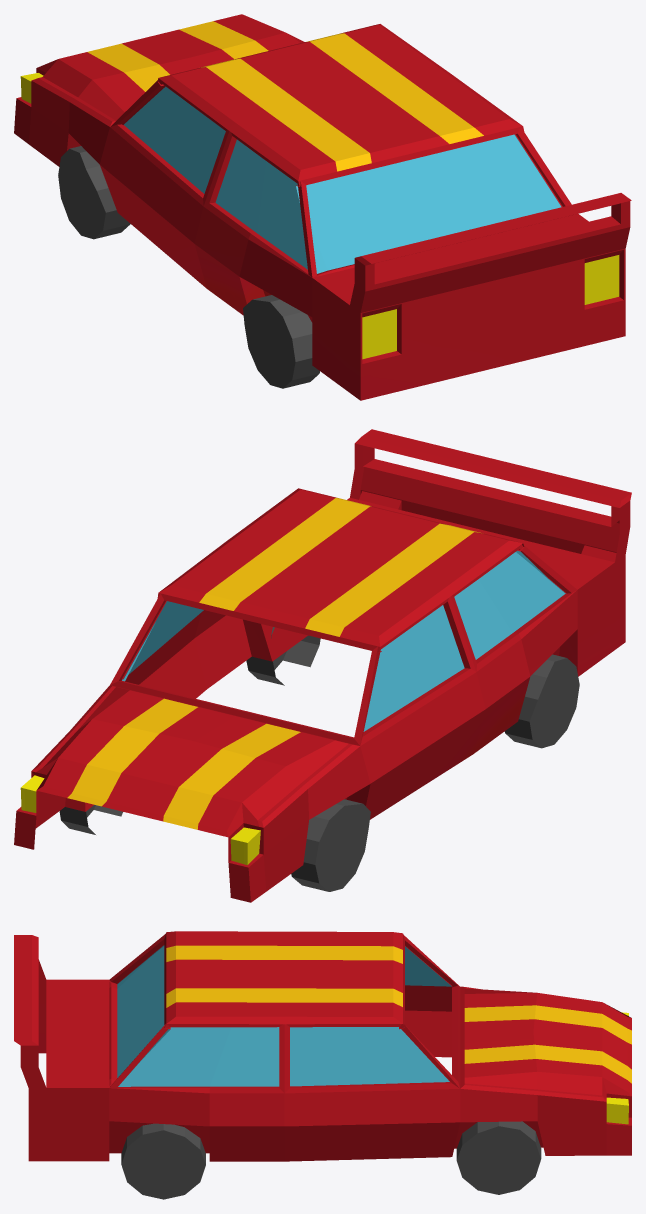
The model's file is PlayerCar_Red.fbx.
3 renders of one model, top to bottom at view 1: azimuth 30°, elevation 25°; view 2: azimuth 150°, elevation 25°; view 3: azimuth 270°, elevation 25°, orthographic. The views are drawn at different scales.
Visible parts, largest first — view 1: Cube.002; view 2: Cube.002; view 3: Cube.002.
Part boxes in pixels (x1=…): Cube.002: x1=14, y1=14, x2=631, y2=400; Cube.002: x1=14, y1=429, x2=631, y2=902; Cube.002: x1=14, y1=931, x2=631, y2=1199.
Size of the model in its own units: 179 by 116 by 388.
